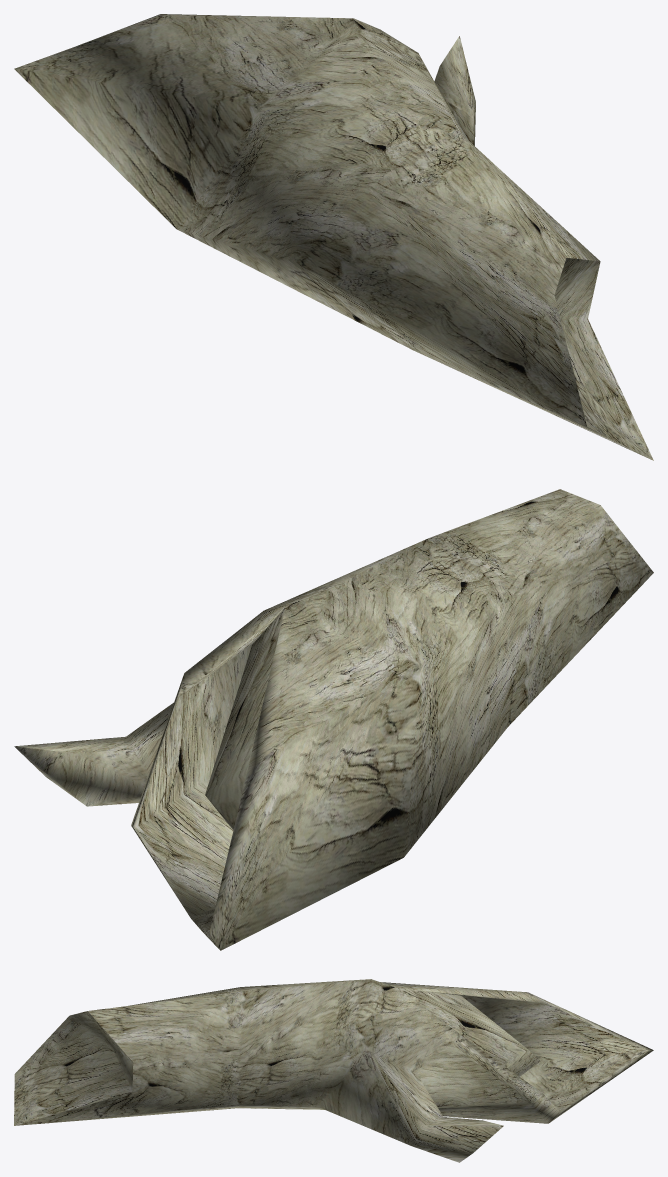
The model's file is shor_driftwood_massassi_lg_l0.fbx.
The picture shows the model from 3 angles, top to bottom: view 1: azimuth 30°, elevation 25°; view 2: azimuth 150°, elevation 25°; view 3: azimuth 270°, elevation 25°; orthographic projection. The views are drawn at different scales.
Parts seen in each view (by area): view 1: mesh_node; view 2: mesh_node; view 3: mesh_node.
Boxes of the visible parts, <box> form: mesh_node: <box>14,14,653,460</box>; mesh_node: <box>14,489,653,950</box>; mesh_node: <box>14,979,653,1162</box>.
Bounding box in the file's own units: 2.62 × 1.75 × 6.78.
